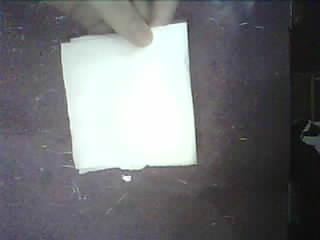paper: (62, 23, 196, 173)
